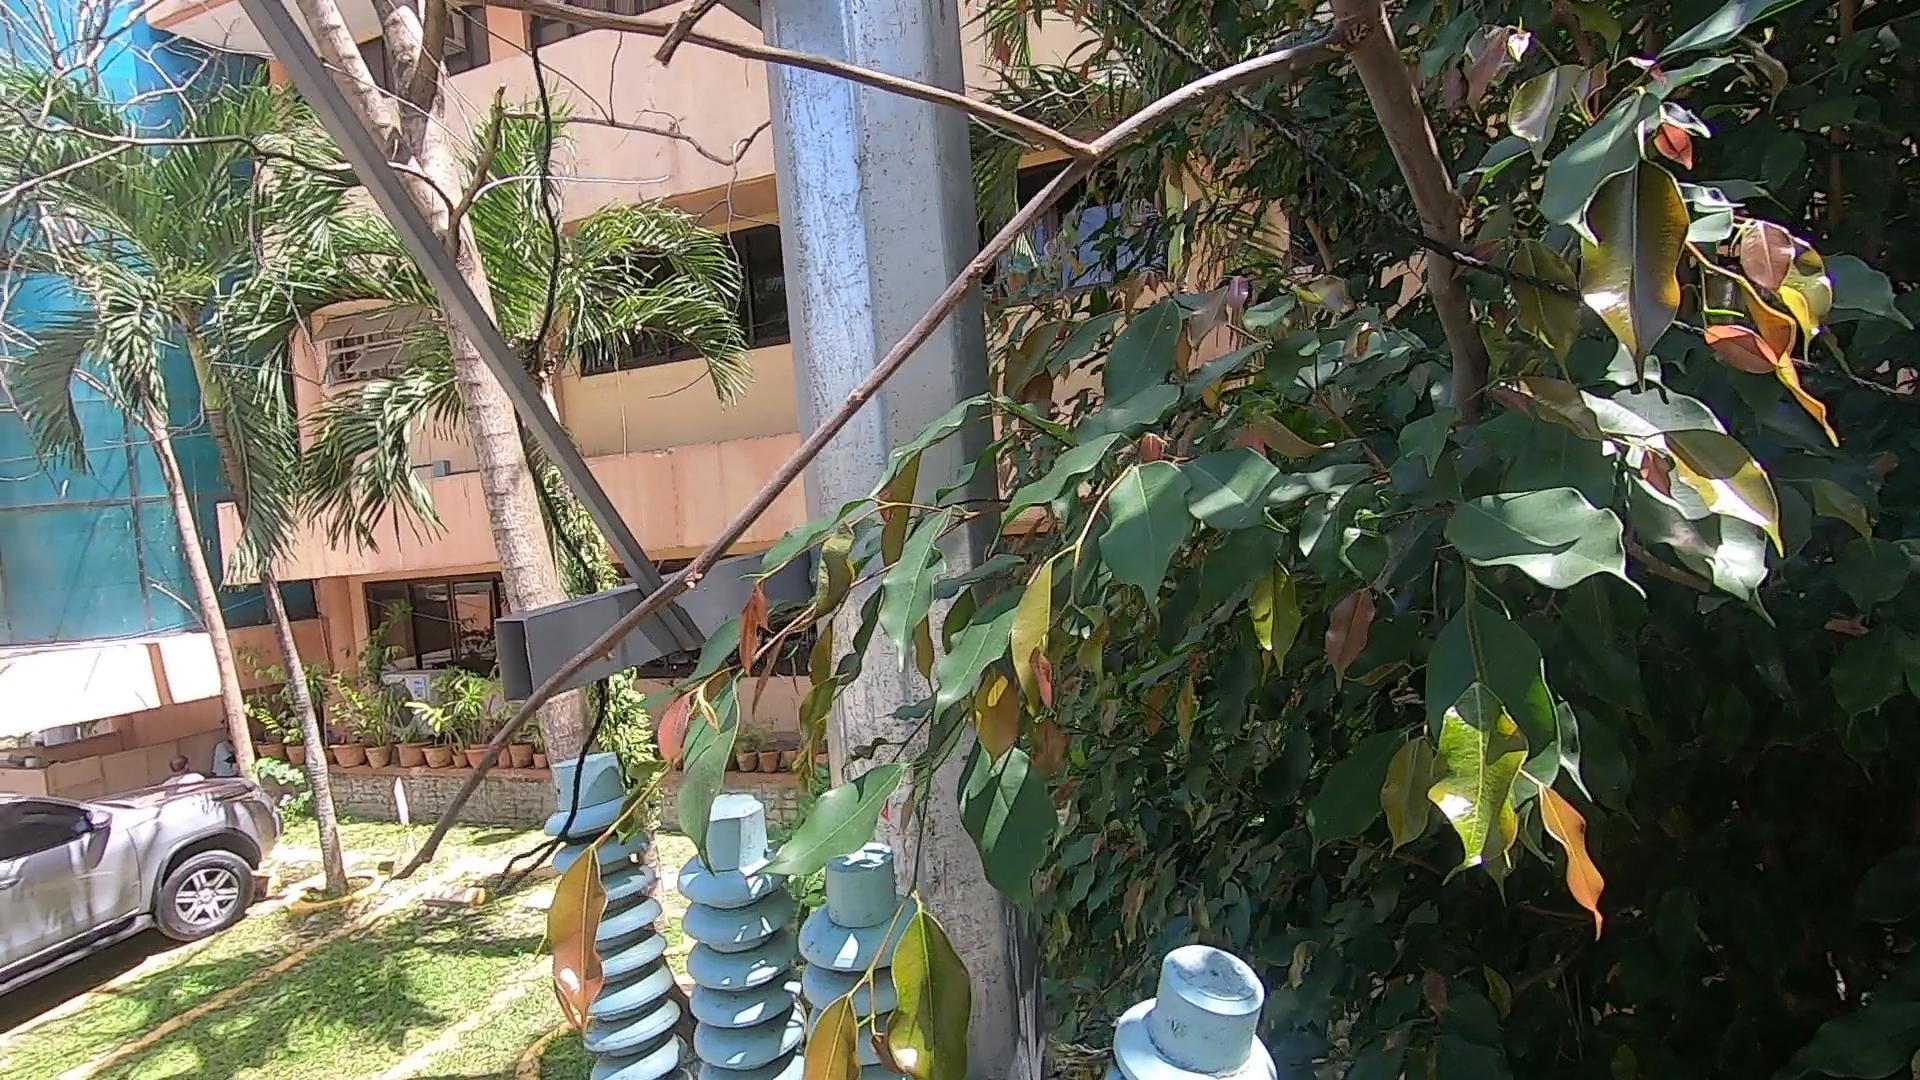tree branch: (367, 1, 1548, 907)
